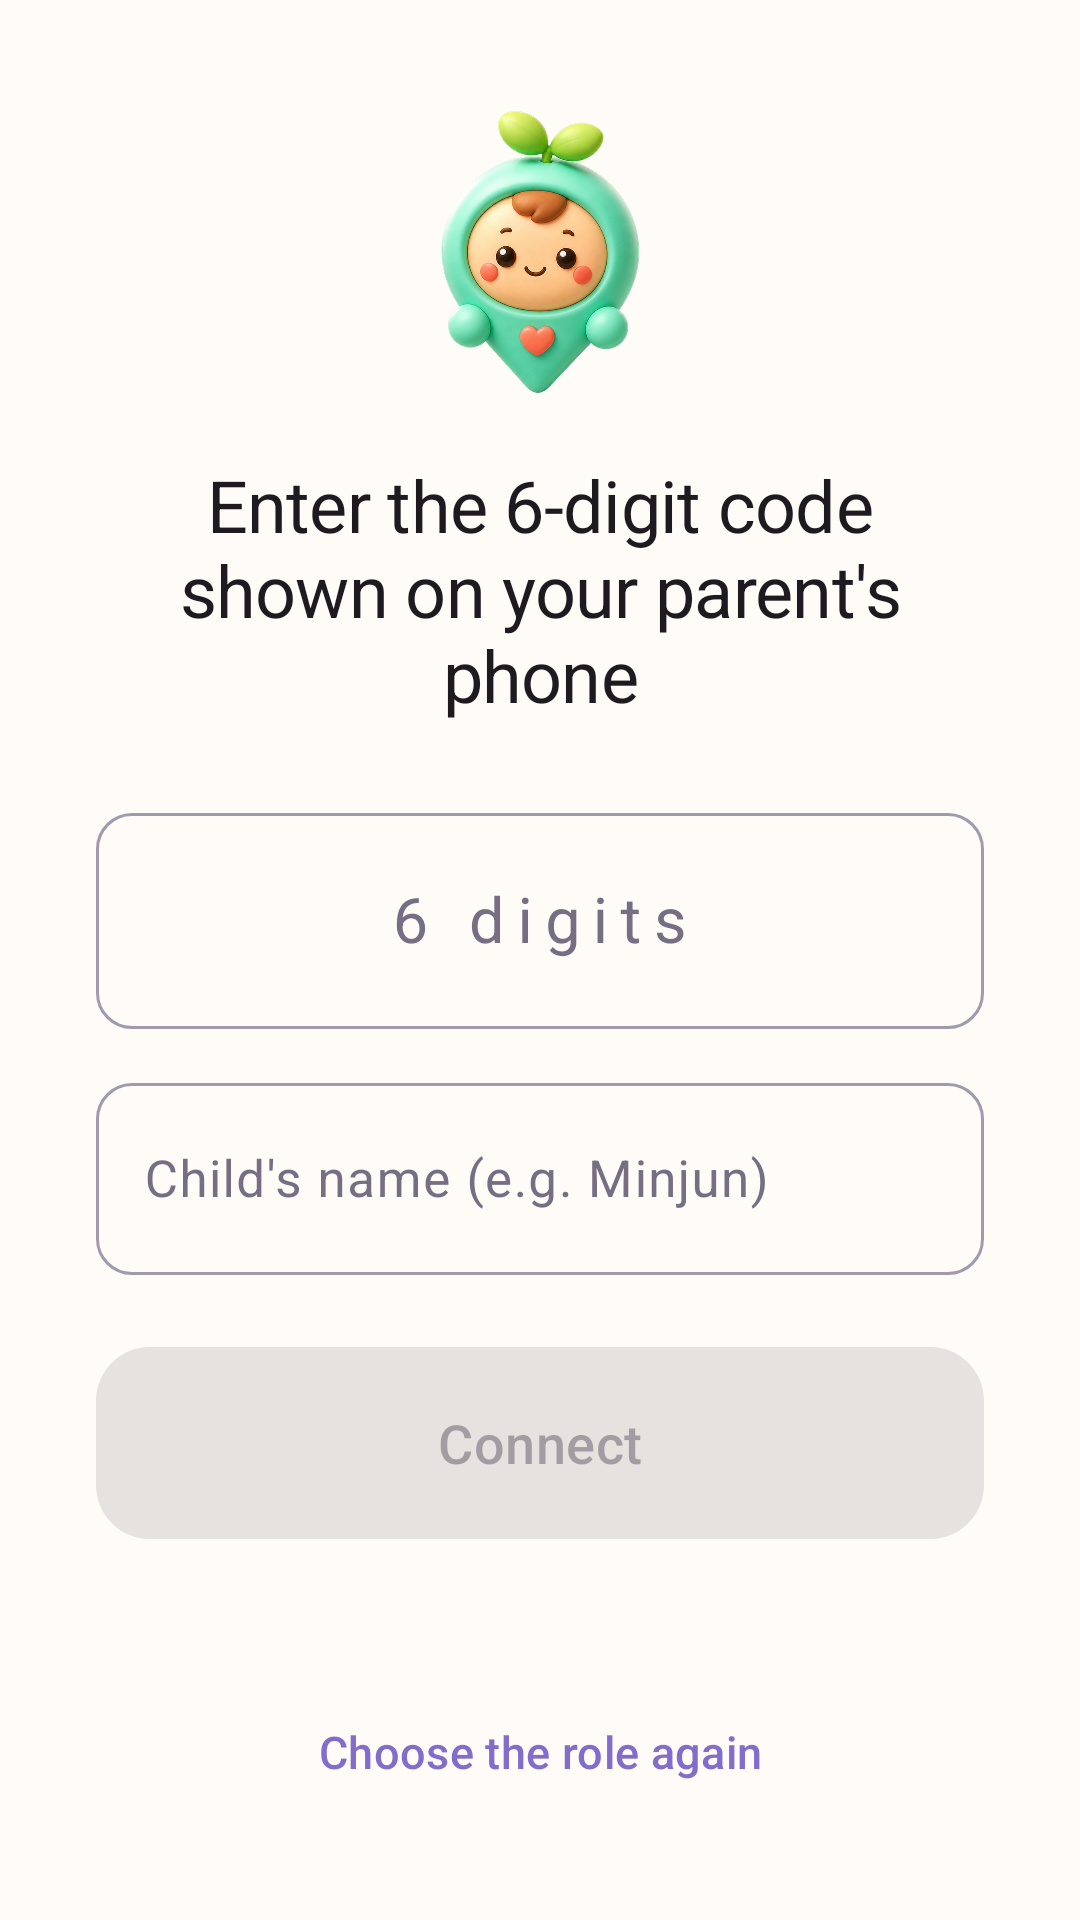

Screen size 1080*1920. Icon name, then its box in pixels as detection(x1, y1, x2, y2):
mascot 3d: detection(442, 111, 639, 393)
